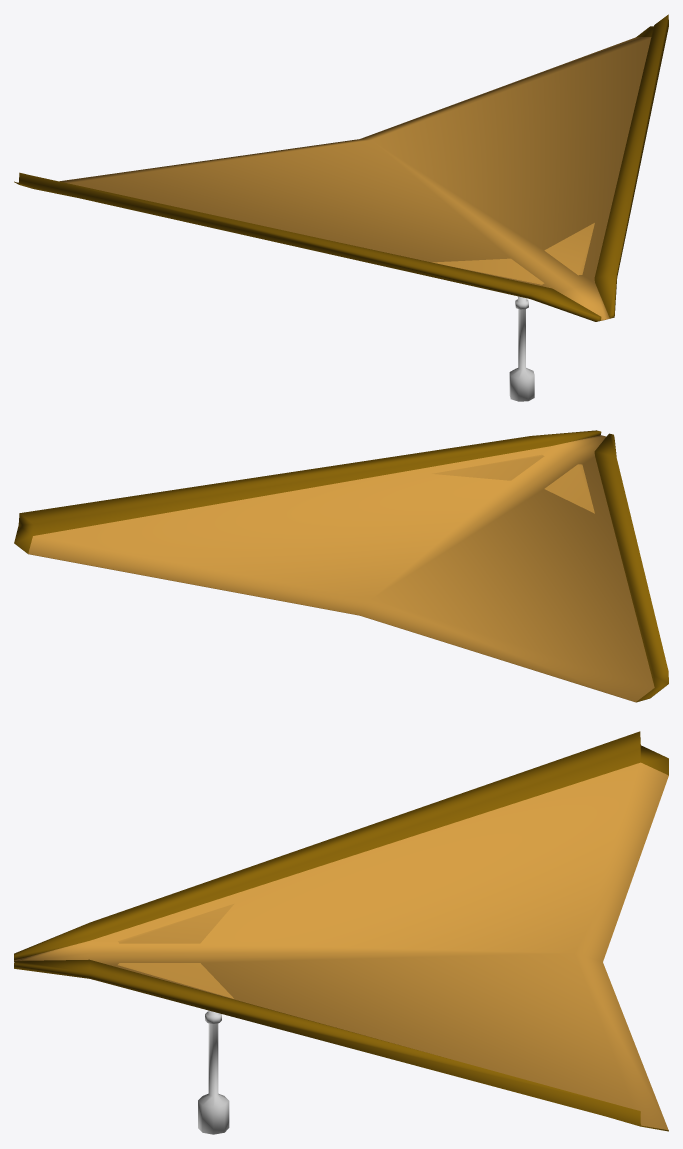
Rendered from Glider.fbx.
The picture shows the model from 3 angles, top to bottom: view 1: azimuth 30°, elevation 25°; view 2: azimuth 150°, elevation 25°; view 3: azimuth 270°, elevation 25°; orthographic projection. The views are drawn at different scales.
Parts seen in each view (by area): view 1: Plane, Cylinder; view 2: Plane; view 3: Plane, Cylinder.
Part boxes in pixels (left/top/right/bottom): Plane: left=14, top=14, right=668, bottom=321; Cylinder: left=509, top=296, right=534, bottom=401; Plane: left=14, top=430, right=668, bottom=702; Plane: left=14, top=731, right=668, bottom=1131; Cylinder: left=198, top=1010, right=229, bottom=1134.
Size of the model in its own units: 11.42 by 2.9 by 8.31.
